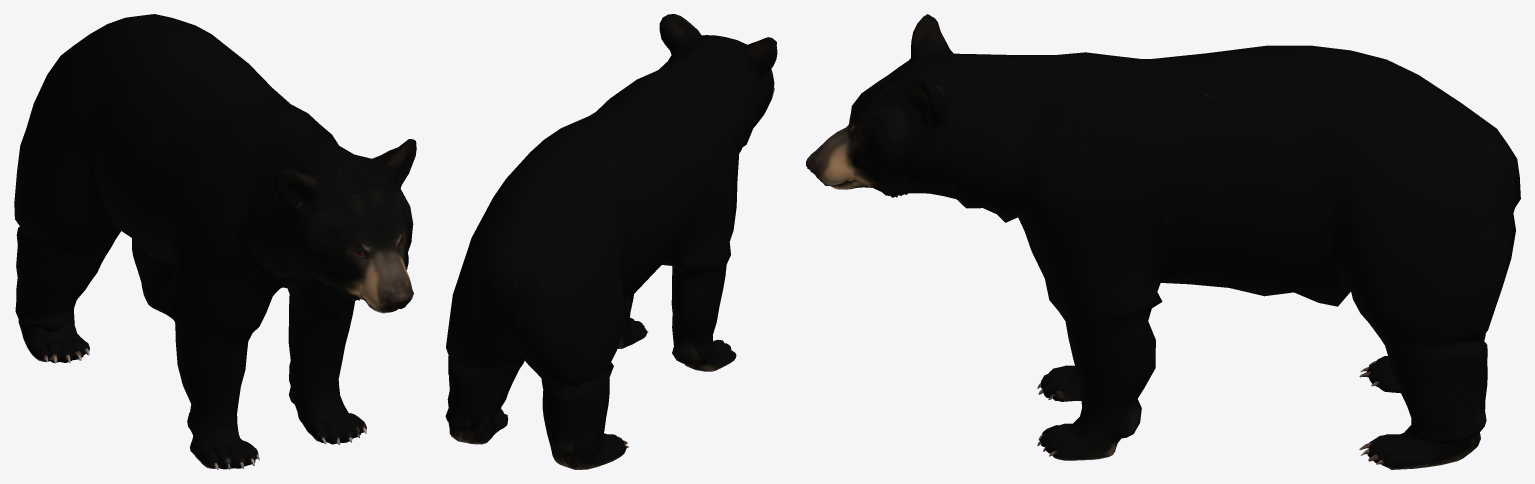
The model's file is bear.glb.
The picture shows the model from 3 angles, left to right: view 1: azimuth 30°, elevation 25°; view 2: azimuth 150°, elevation 25°; view 3: azimuth 270°, elevation 25°; orthographic projection. The views are drawn at different scales.
Parts seen in each view (by area): view 1: geometry_0; view 2: geometry_0; view 3: geometry_0.
Part boxes in pixels (box(x1,y1,x2,y2)): geometry_0: box(14, 14, 416, 469); geometry_0: box(445, 14, 777, 469); geometry_0: box(806, 14, 1520, 469).
Size of the model in its own units: 0.3247 by 0.542 by 0.9458.
Materials: 1 (1 with a texture image).
